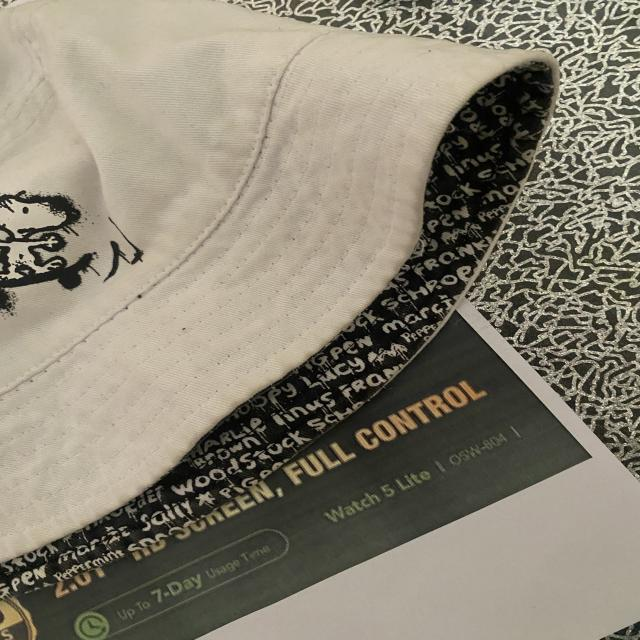Watch 5 Lite OSW-804: (312, 421, 526, 530)
